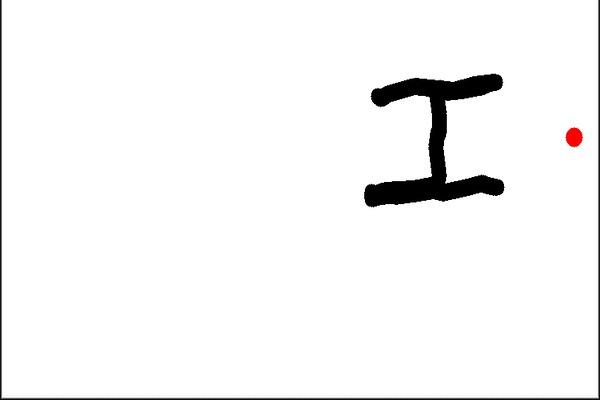i: (355, 68, 516, 213)
